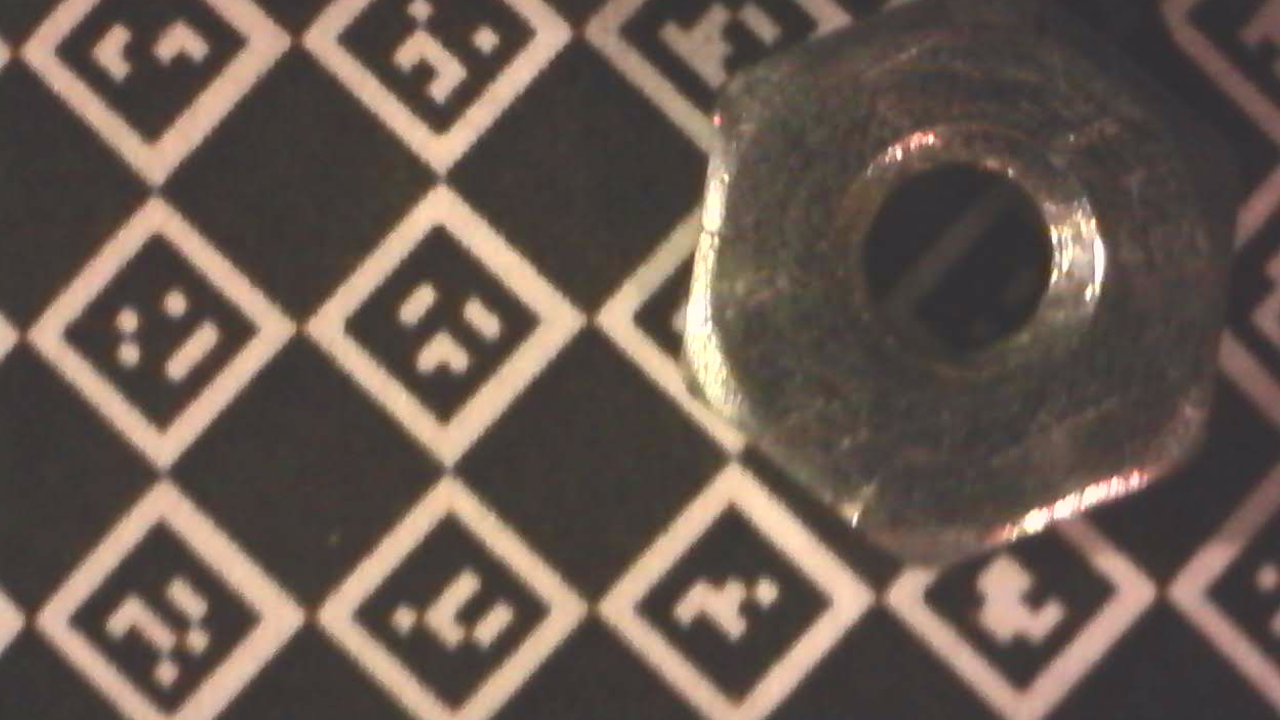Bolt: (680, 0, 1232, 575)
